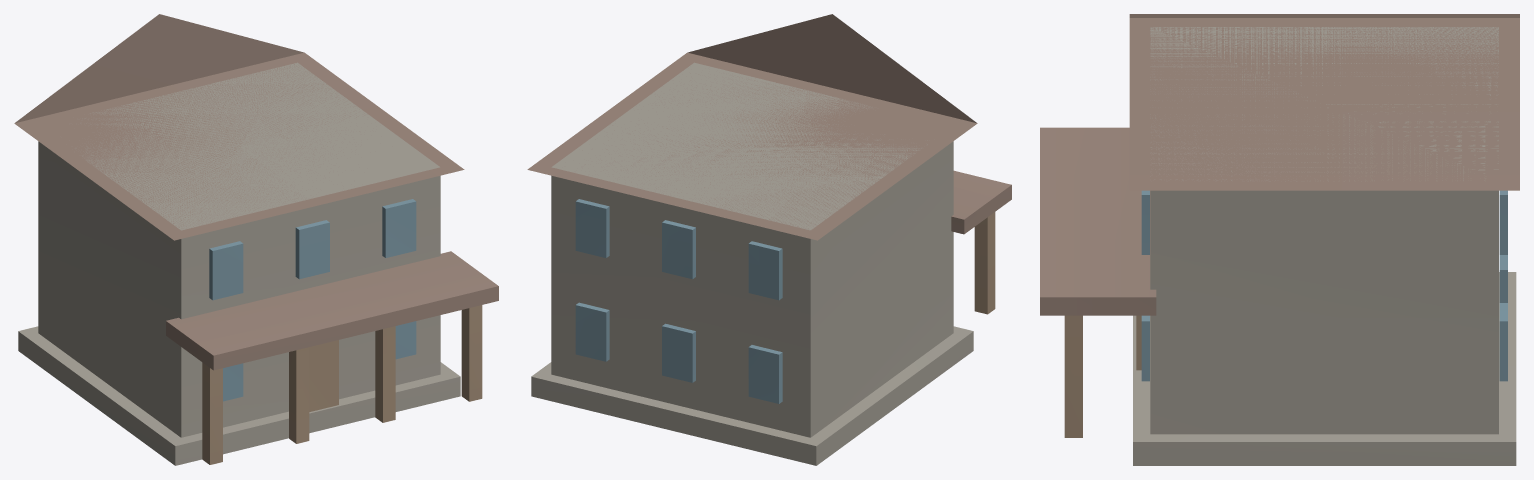
Rendered from market-04.glb.
3 views of the same model, side by side, from view 1: azimuth 30°, elevation 25°; view 2: azimuth 150°, elevation 25°; view 3: azimuth 270°, elevation 25° (orthographic). The views are drawn at different scales.
Visible parts, largest first — view 1: world; view 2: world; view 3: world.
Part boxes in pixels (<box>): world: <box>14,14,498,465</box>; world: <box>527,14,1011,465</box>; world: <box>1040,14,1519,465</box>.
Size of the model in its own units: 1.23 by 1.22 by 1.45.
